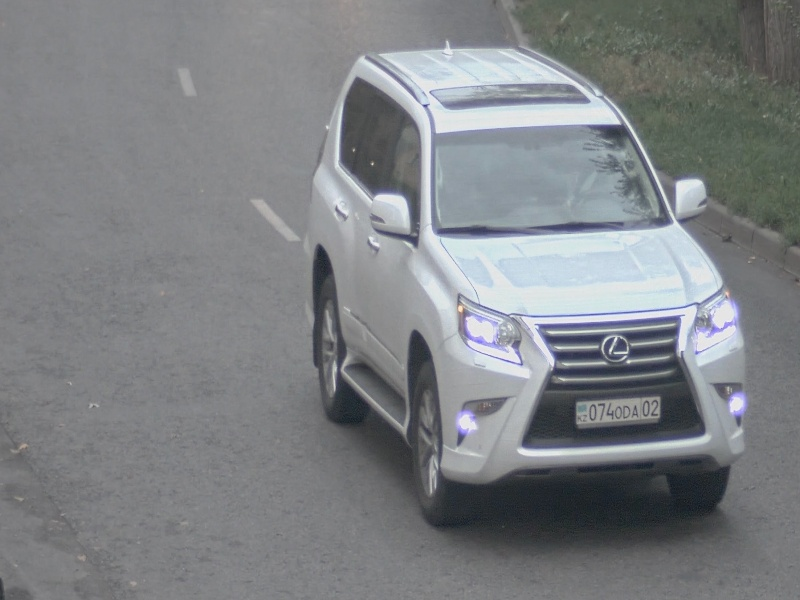plate: (573, 394, 664, 430)
